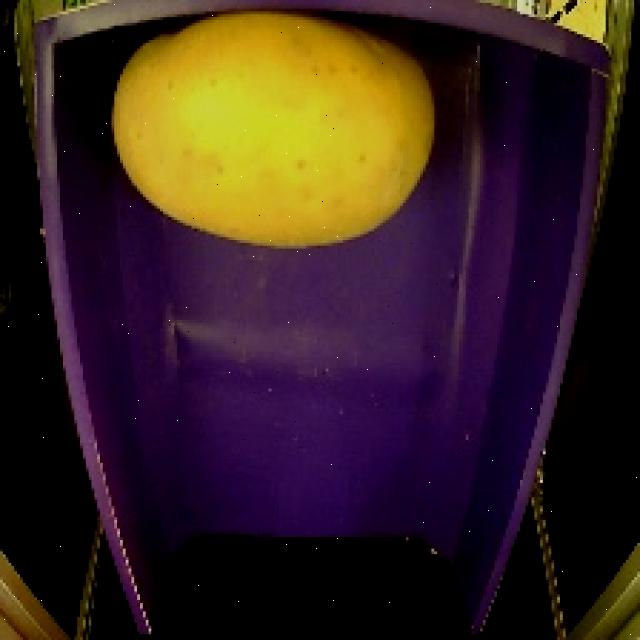full_potato: (101, 7, 452, 267)
